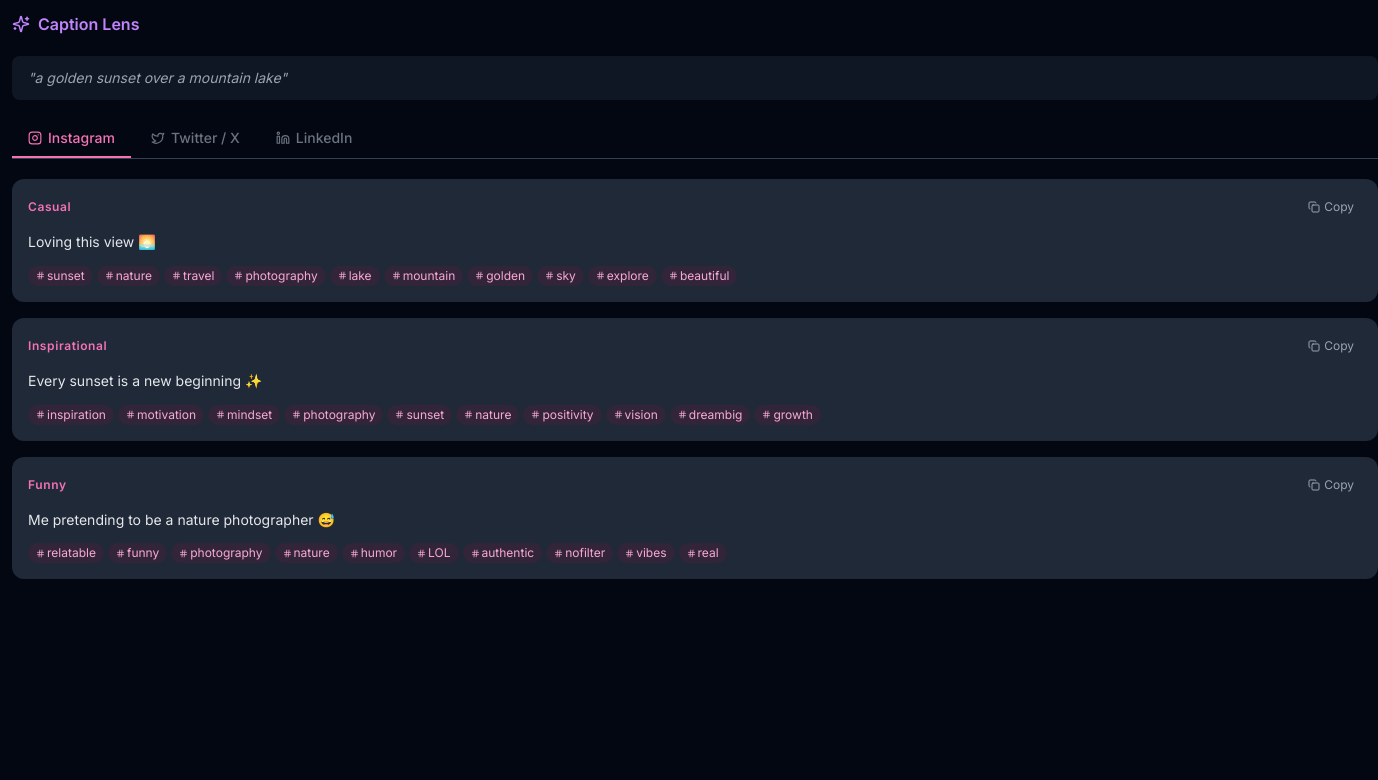
CaptionLensResultPanel › switches to LinkedIn tab on click
Click the button "LinkedIn" at (314, 139), box [260, 120, 368, 158]
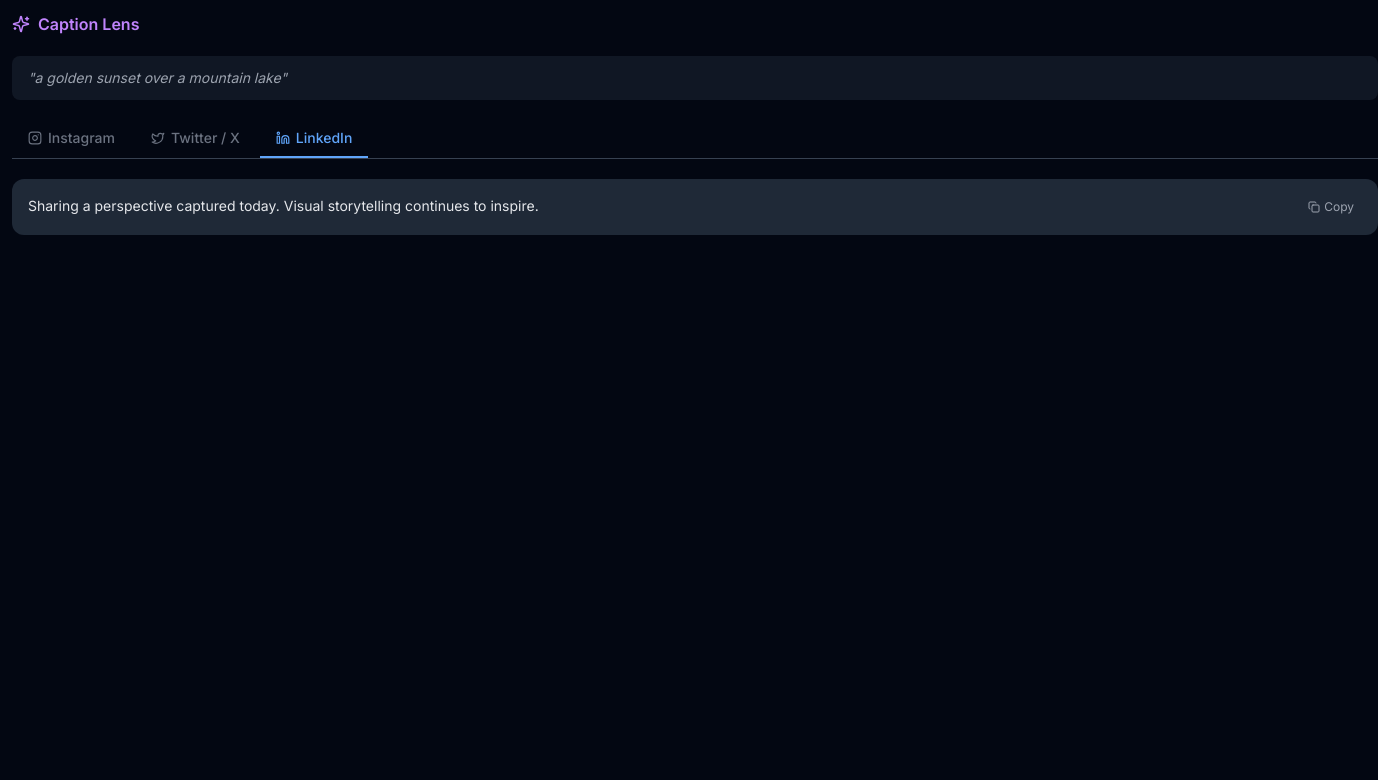
expect the text "Sharing a perspective" is shown: met, box [28, 197, 539, 214]
